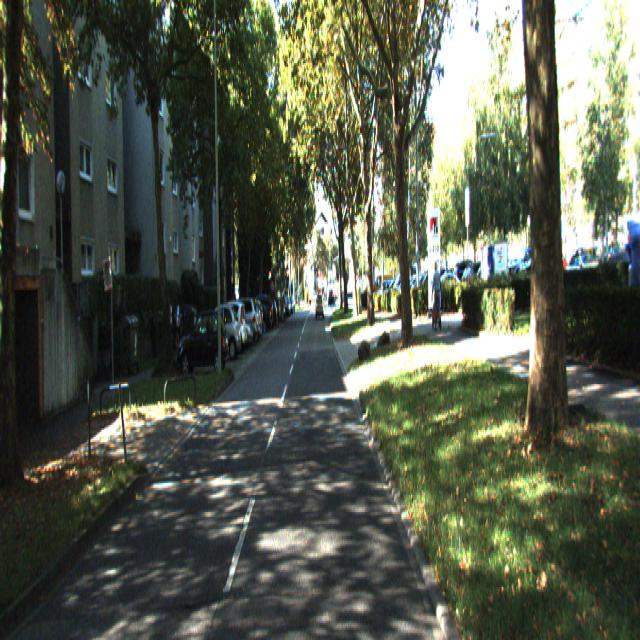Car: (178, 317, 230, 383), (199, 300, 242, 362), (208, 299, 249, 356)
